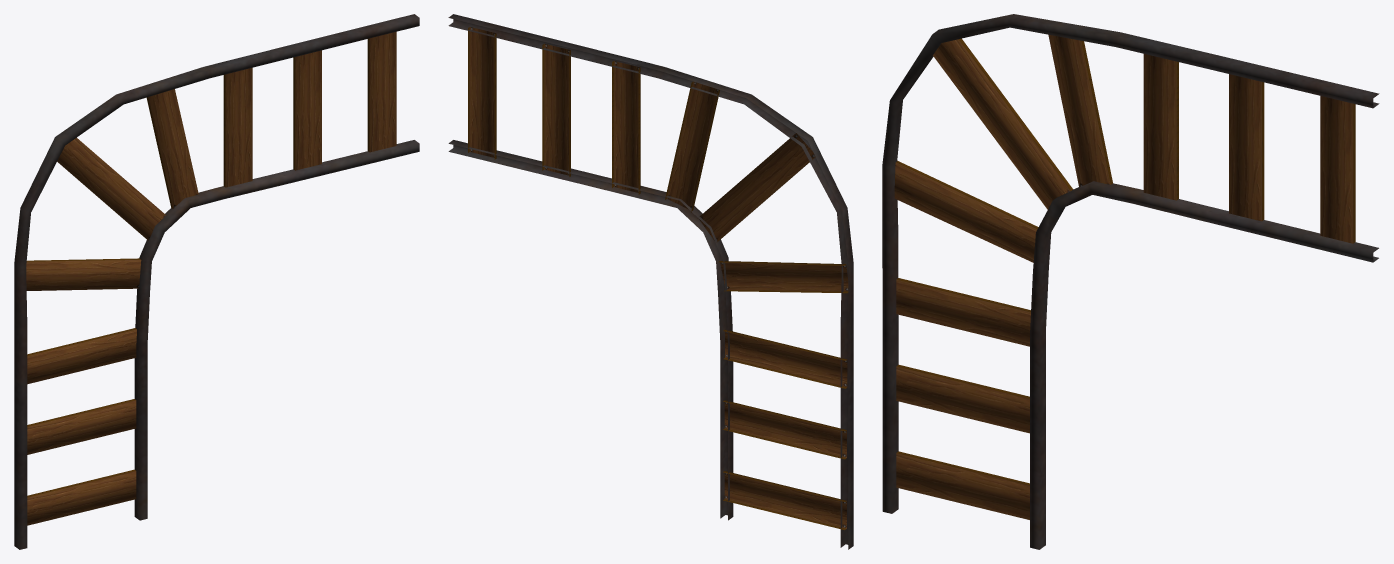
File: CurvedTrail.fbx
3 renders of one model, left to right at view 1: azimuth 30°, elevation 25°; view 2: azimuth 150°, elevation 25°; view 3: azimuth 330°, elevation 25°, orthographic. The views are drawn at different scales.
Visible parts, largest first — view 1: Trilho Curvado; view 2: Trilho Curvado; view 3: Trilho Curvado.
Part boxes in pixels (x1,y1,x2,y2): Trilho Curvado: (14, 14, 419, 549); Trilho Curvado: (448, 14, 853, 549); Trilho Curvado: (882, 14, 1379, 549).
Size of the model in its own units: 188 by 195 by 4.93.
1 material, 1 textured.
